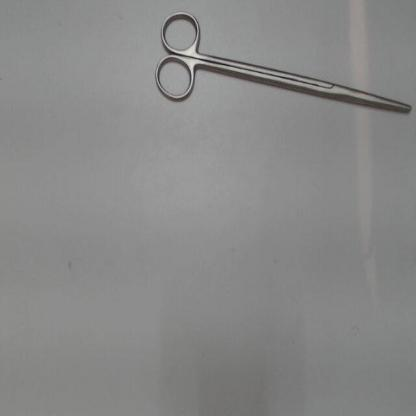9 Metzenbaum Scissors: (150, 8, 414, 115)
